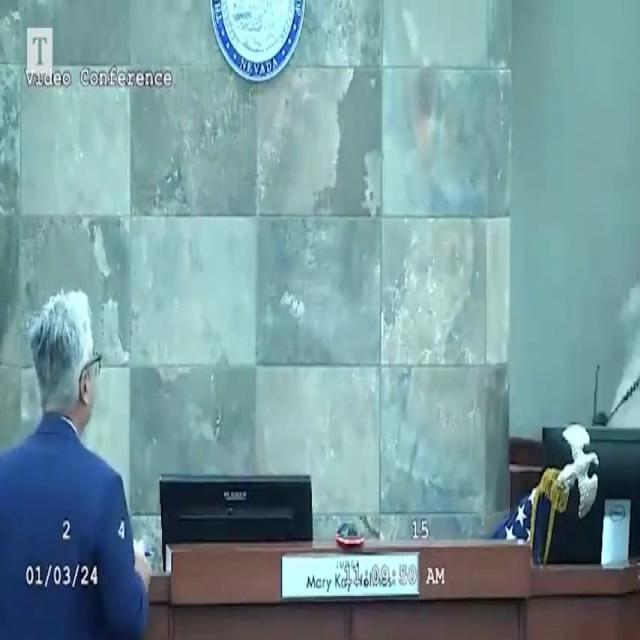non-fight: (1, 286, 150, 637)
